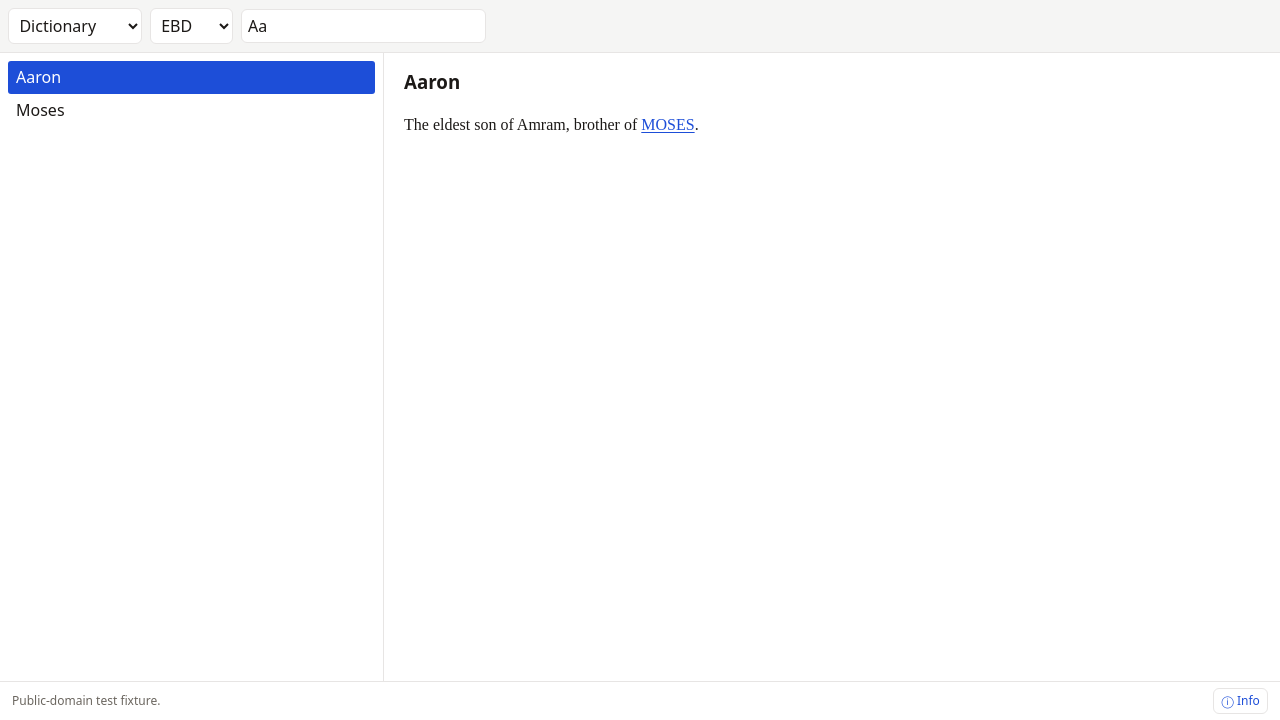
Test: DictionaryPane › persists a headword browsed through the local list
The selected entry is pane state, so reload restores what the user currently sees.
Click the button "Moses" at (40, 110), box x1=8 y1=94 x2=375 y2=127
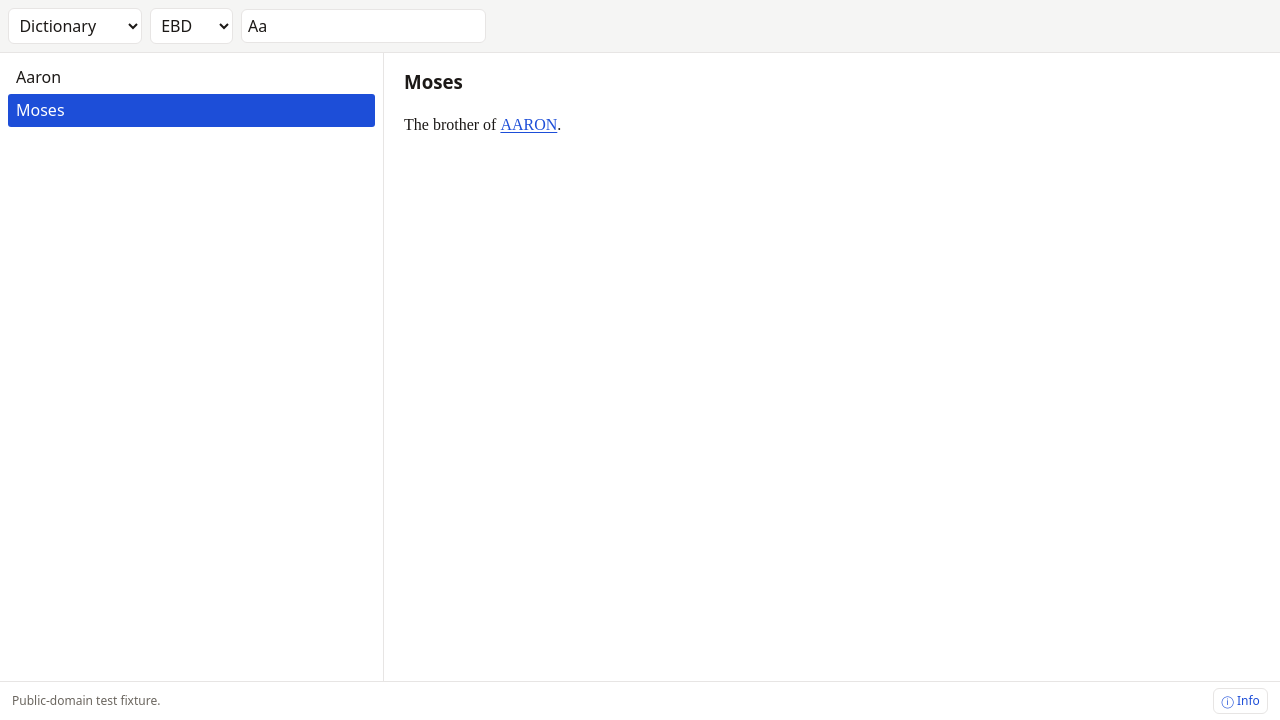
Check: the search field holds "Aa", box x1=241 y1=9 x2=486 y2=43
Check: the heading "Moses" is shown, box x1=404 y1=69 x2=463 y2=94
Internal dictionary links continue to navigate in the same pane.
Click the button with aria-label "Open dictionary entry Aaron" at (529, 126), box x1=500 y1=112 x2=557 y2=139
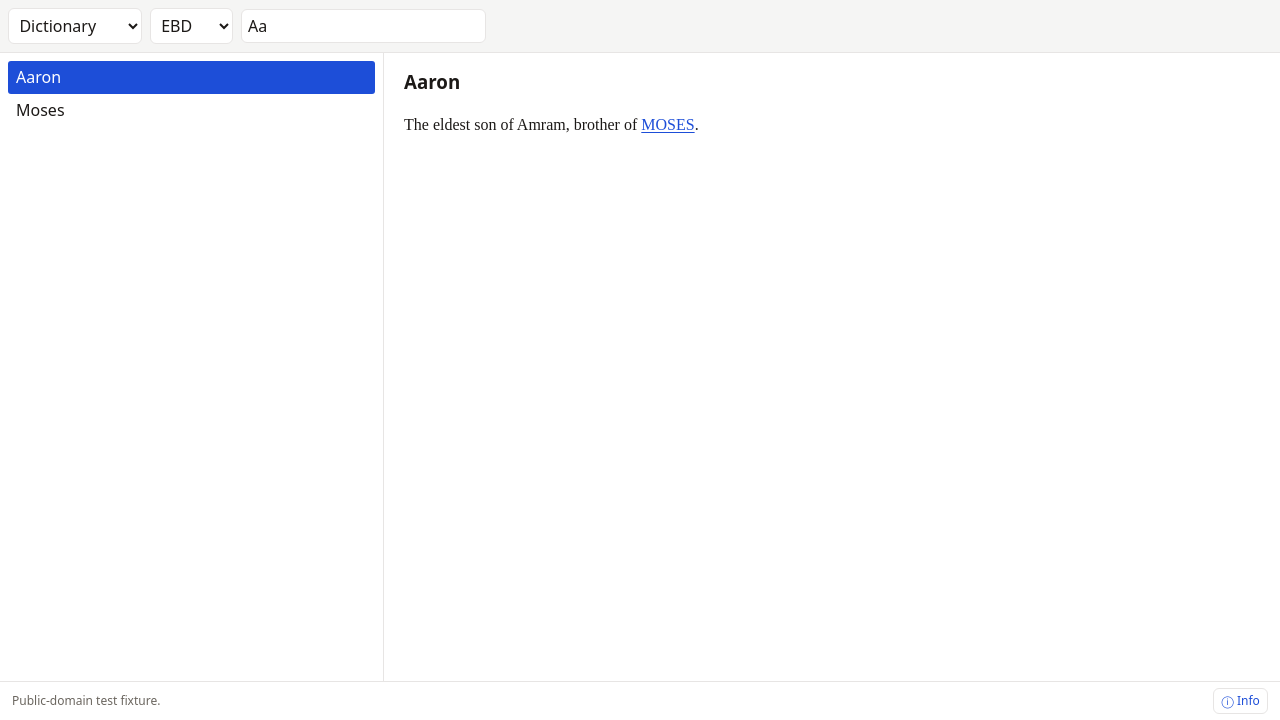
Check: the heading "Aaron" is shown, box x1=404 y1=69 x2=460 y2=94
